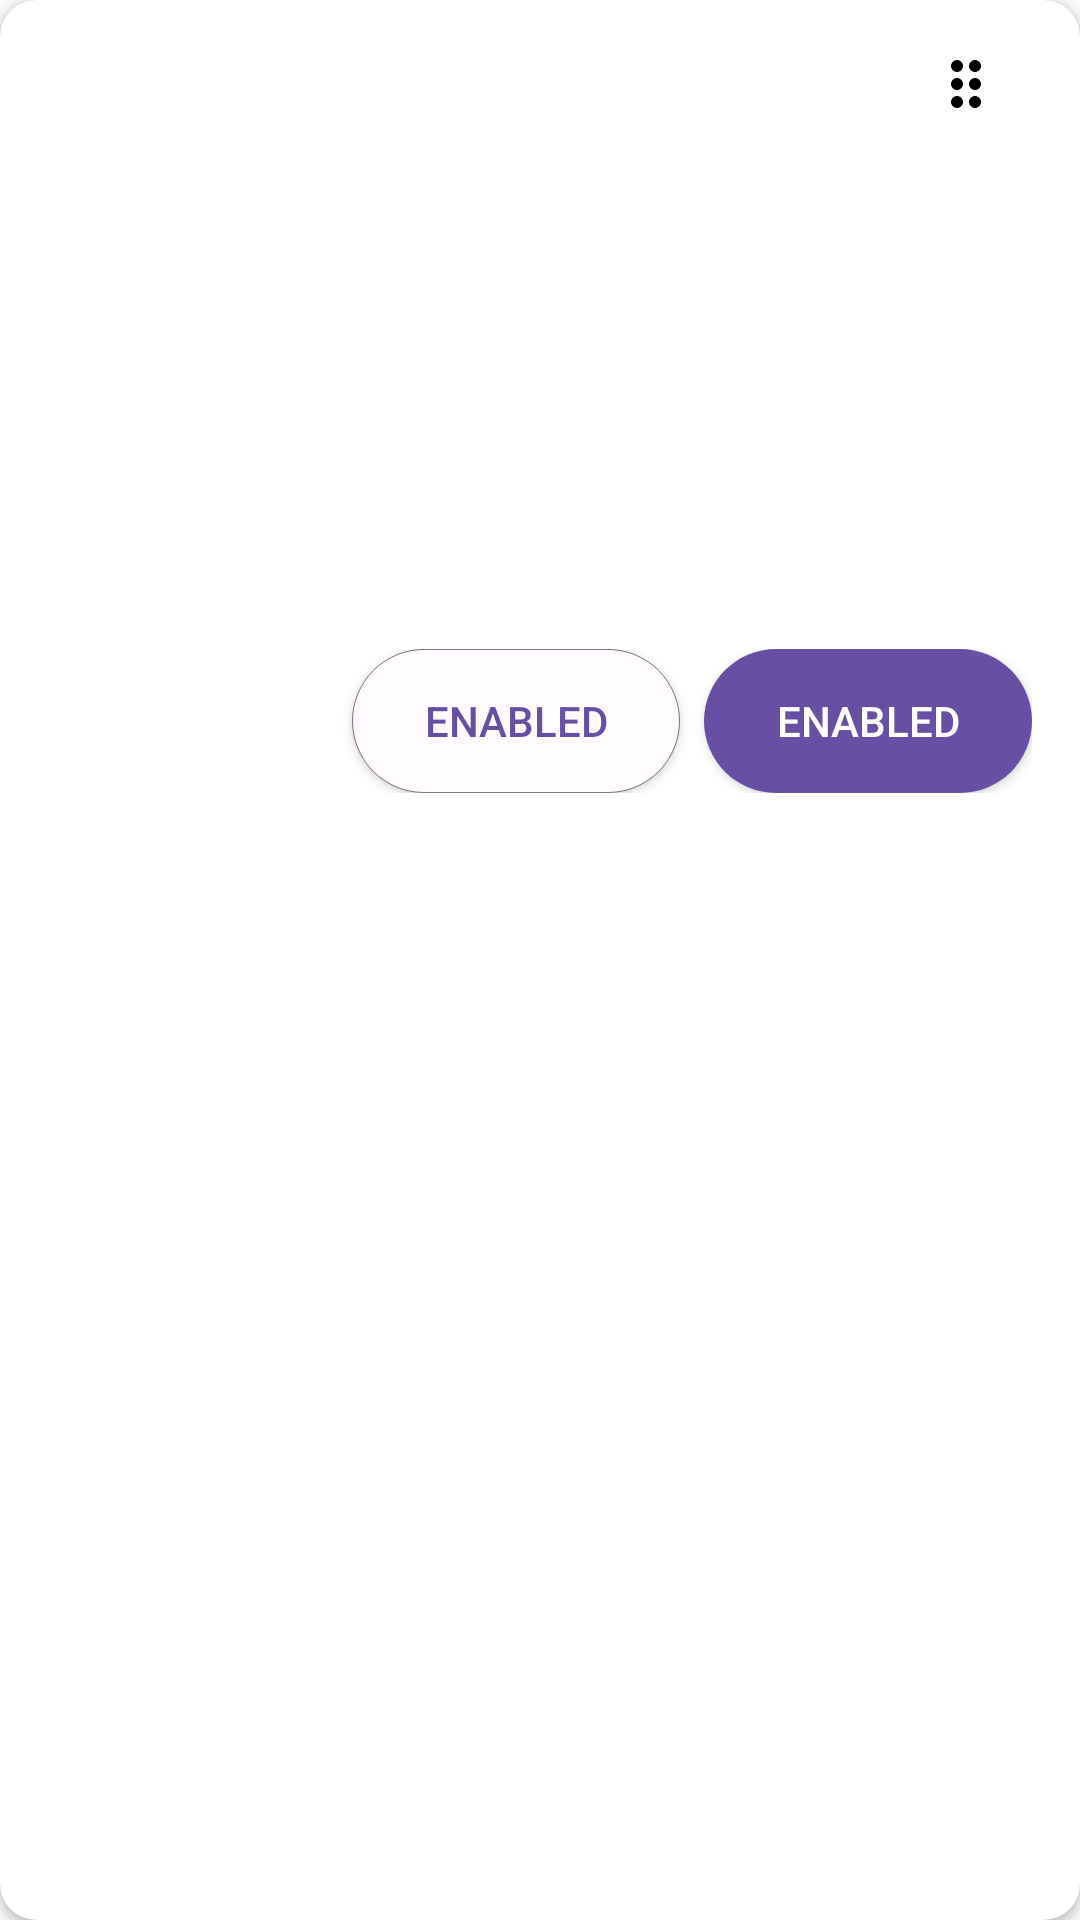

Icon bounding boxes for this 1080w x 1920h phone screenshot, format (x1, y1, x2, y2):
drag indicator: (951, 60, 981, 108)
